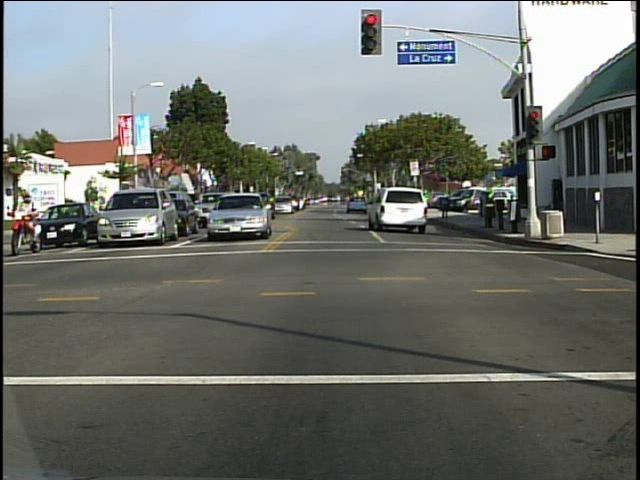person: (7, 187, 43, 254)
